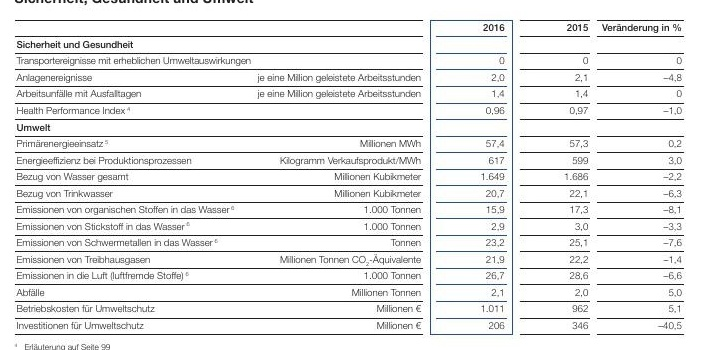table: (0, 0, 704, 350)
